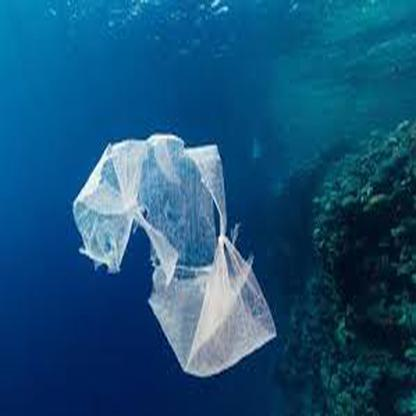plastic bag: (71, 131, 277, 377)
